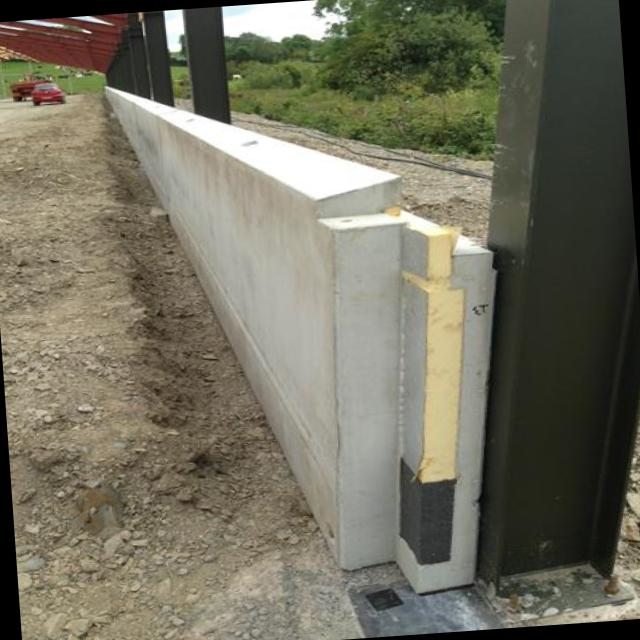cement: (109, 93, 402, 569)
grass: (232, 74, 496, 159)
red-sand: (0, 95, 307, 640)
